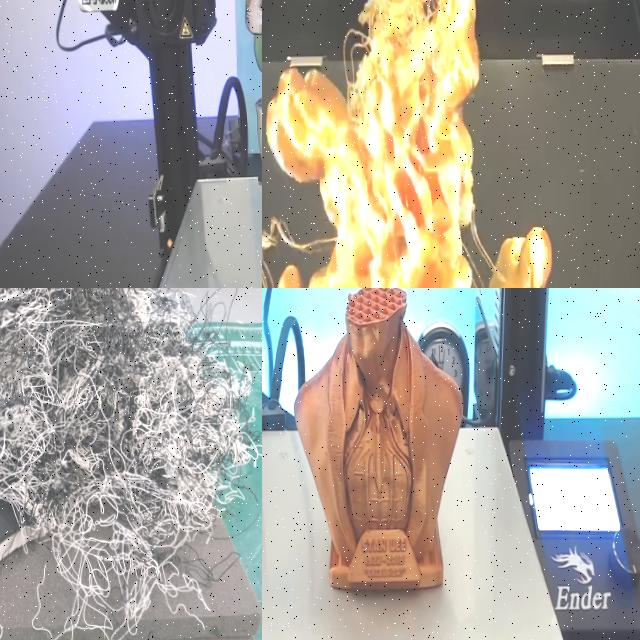spaghetti: (325, 0, 455, 130), (453, 211, 606, 288), (262, 183, 352, 288)
